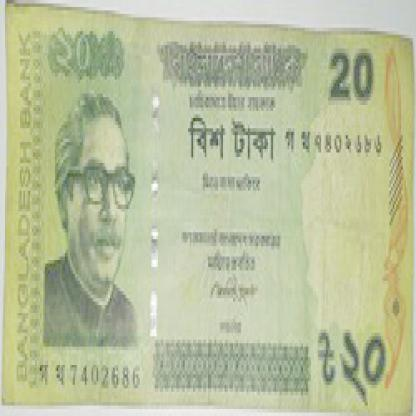Twenty: (45, 17, 141, 111), (318, 326, 388, 412), (186, 111, 276, 173), (330, 35, 382, 114)
